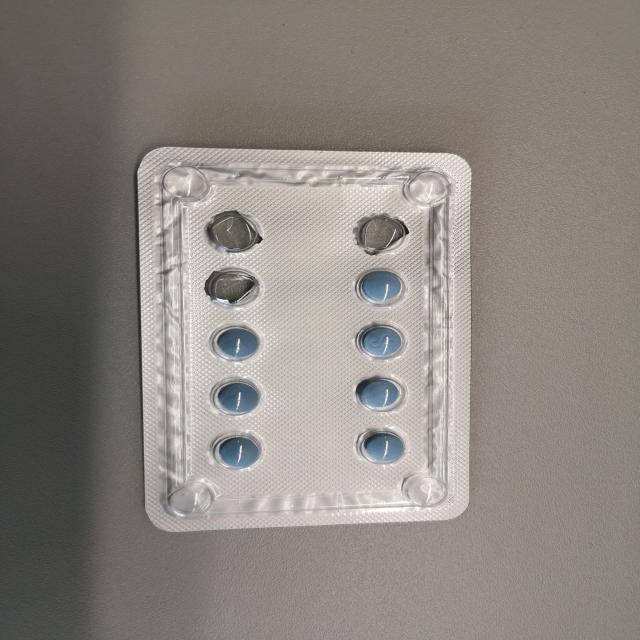Empty: (197, 208, 270, 254), (197, 263, 267, 310), (350, 213, 412, 256)
Pill: (347, 267, 412, 308), (207, 429, 267, 473), (203, 377, 267, 418), (350, 319, 410, 362), (205, 323, 264, 365), (350, 426, 410, 466), (352, 374, 406, 412)
